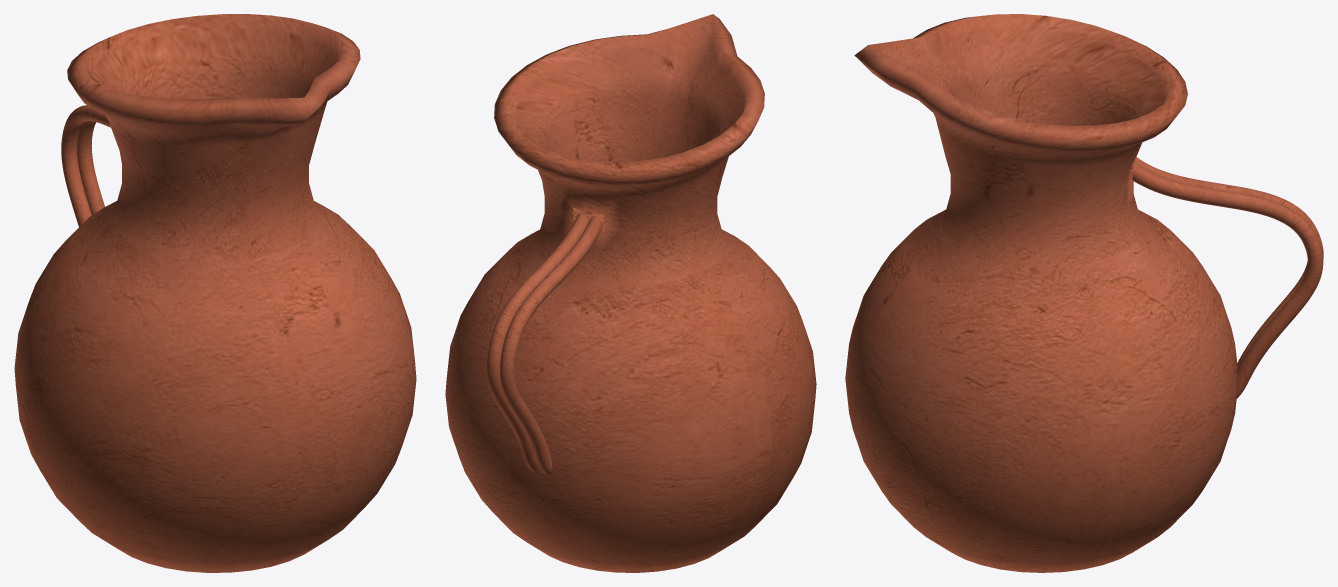
File: Brocca.fbx
The picture shows the model from 3 angles, left to right: view 1: azimuth 30°, elevation 25°; view 2: azimuth 150°, elevation 25°; view 3: azimuth 270°, elevation 25°; orthographic projection. The views are drawn at different scales.
Parts seen in each view (by area): view 1: Brocca; view 2: Brocca; view 3: Brocca.
Boxes of the visible parts, x1,y1,x2,y2 form: Brocca: (14,14,416,572); Brocca: (445,14,816,572); Brocca: (845,14,1323,572).
Size of the model in its own units: 393 by 531 by 478.
